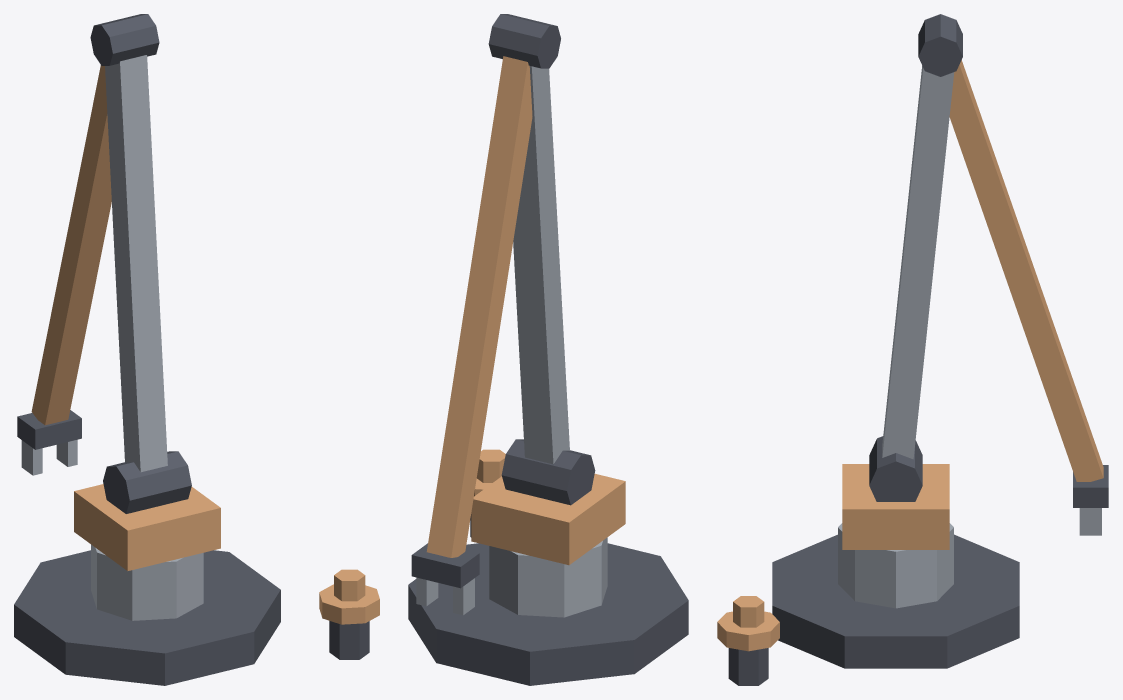
Rendered from braco_longo_sem_textura.glb.
The picture shows the model from 3 angles, left to right: view 1: azimuth 30°, elevation 25°; view 2: azimuth 150°, elevation 25°; view 3: azimuth 270°, elevation 25°; orthographic projection. The views are drawn at different scales.
Visible parts, largest first — view 1: braco_longo_base, braco_longo_braco1, braco_longo_giro, braco_longo_braco2, braco_longo_garra; view 2: braco_longo_base, braco_longo_braco2, braco_longo_braco1, braco_longo_giro, braco_longo_garra; view 3: braco_longo_base, braco_longo_braco1, braco_longo_braco2, braco_longo_giro, braco_longo_garra.
Part boxes in pixels (<box>): braco_longo_base: <box>14,544,379,685</box>; braco_longo_braco1: <box>90,14,167,472</box>; braco_longo_giro: <box>74,451,220,570</box>; braco_longo_braco2: <box>31,65,111,425</box>; braco_longo_garra: <box>17,410,81,475</box>; braco_longo_base: <box>408,449,688,685</box>; braco_longo_braco2: <box>426,56,532,557</box>; braco_longo_braco1: <box>488,14,569,464</box>; braco_longo_giro: <box>471,439,625,565</box>; braco_longo_garra: <box>411,543,479,615</box>; braco_longo_base: <box>717,523,1019,685</box>; braco_longo_braco1: <box>882,14,962,459</box>; braco_longo_braco2: <box>949,60,1103,481</box>; braco_longo_giro: <box>842,436,949,549</box>; braco_longo_garra: <box>1073,465,1108,535</box>.
Size of the model in its own units: 0.6772 by 1.46 by 0.876.
